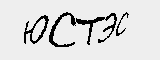С: (49, 10, 77, 49), (116, 9, 128, 37)
Т: (78, 12, 103, 46)
Э: (97, 8, 116, 44)
Ю: (21, 13, 48, 44)
